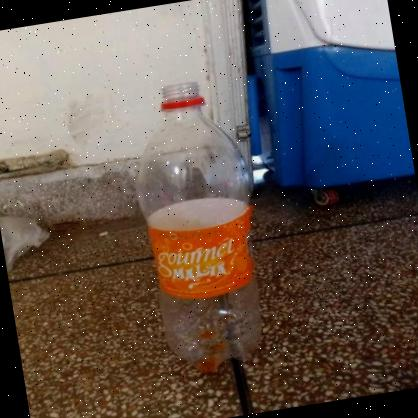bottle: (105, 63, 302, 386)
label: (129, 186, 268, 312)
